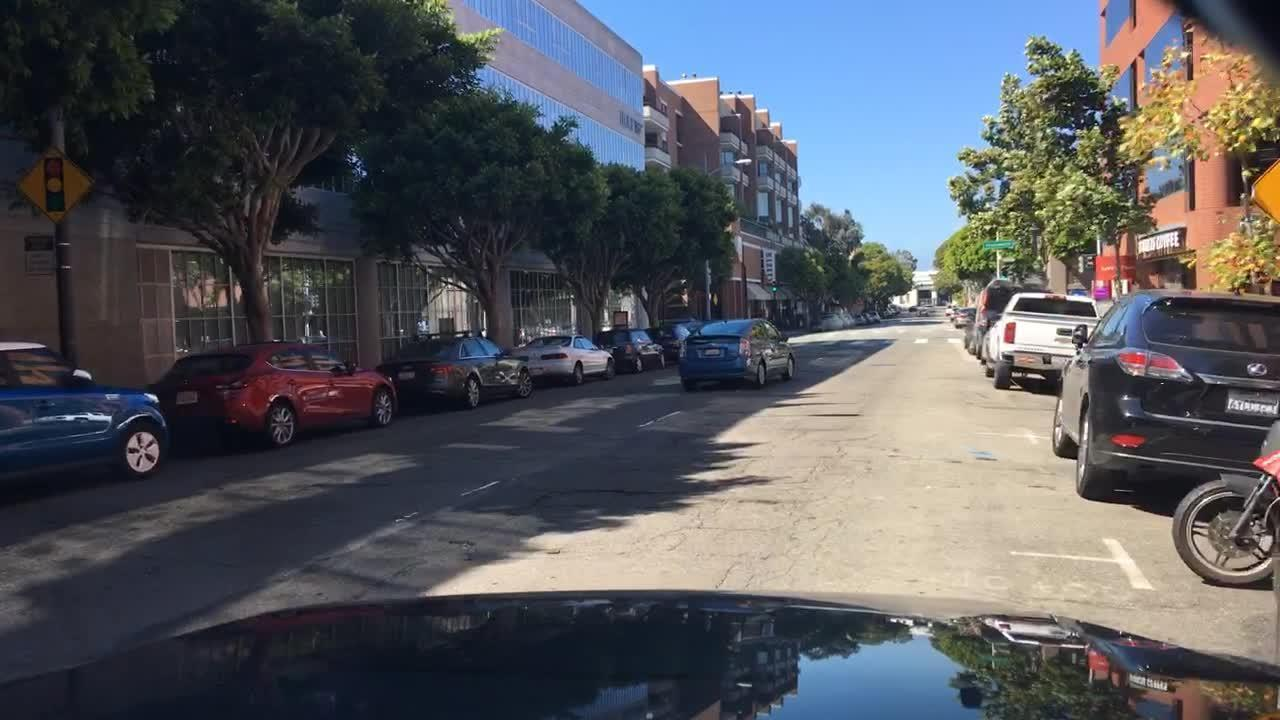lexus: (1239, 351, 1276, 390)
